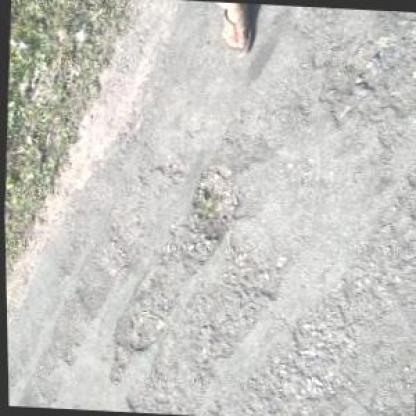pothole: (186, 164, 244, 251)
